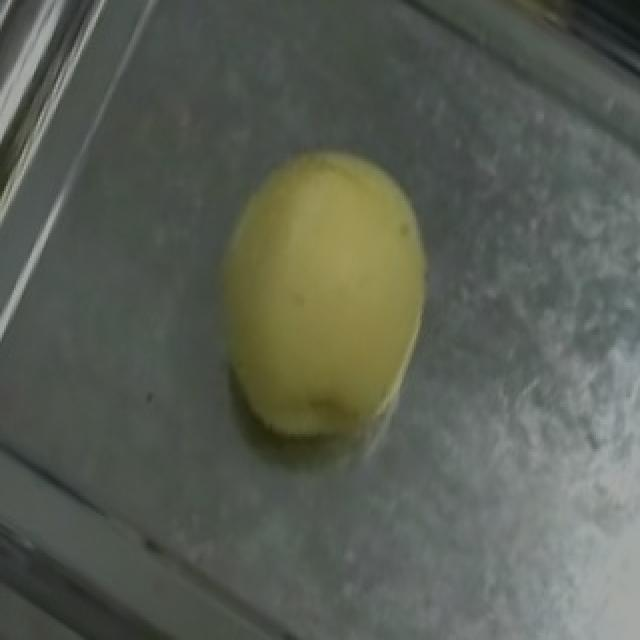Fruit: (168, 107, 478, 476)
